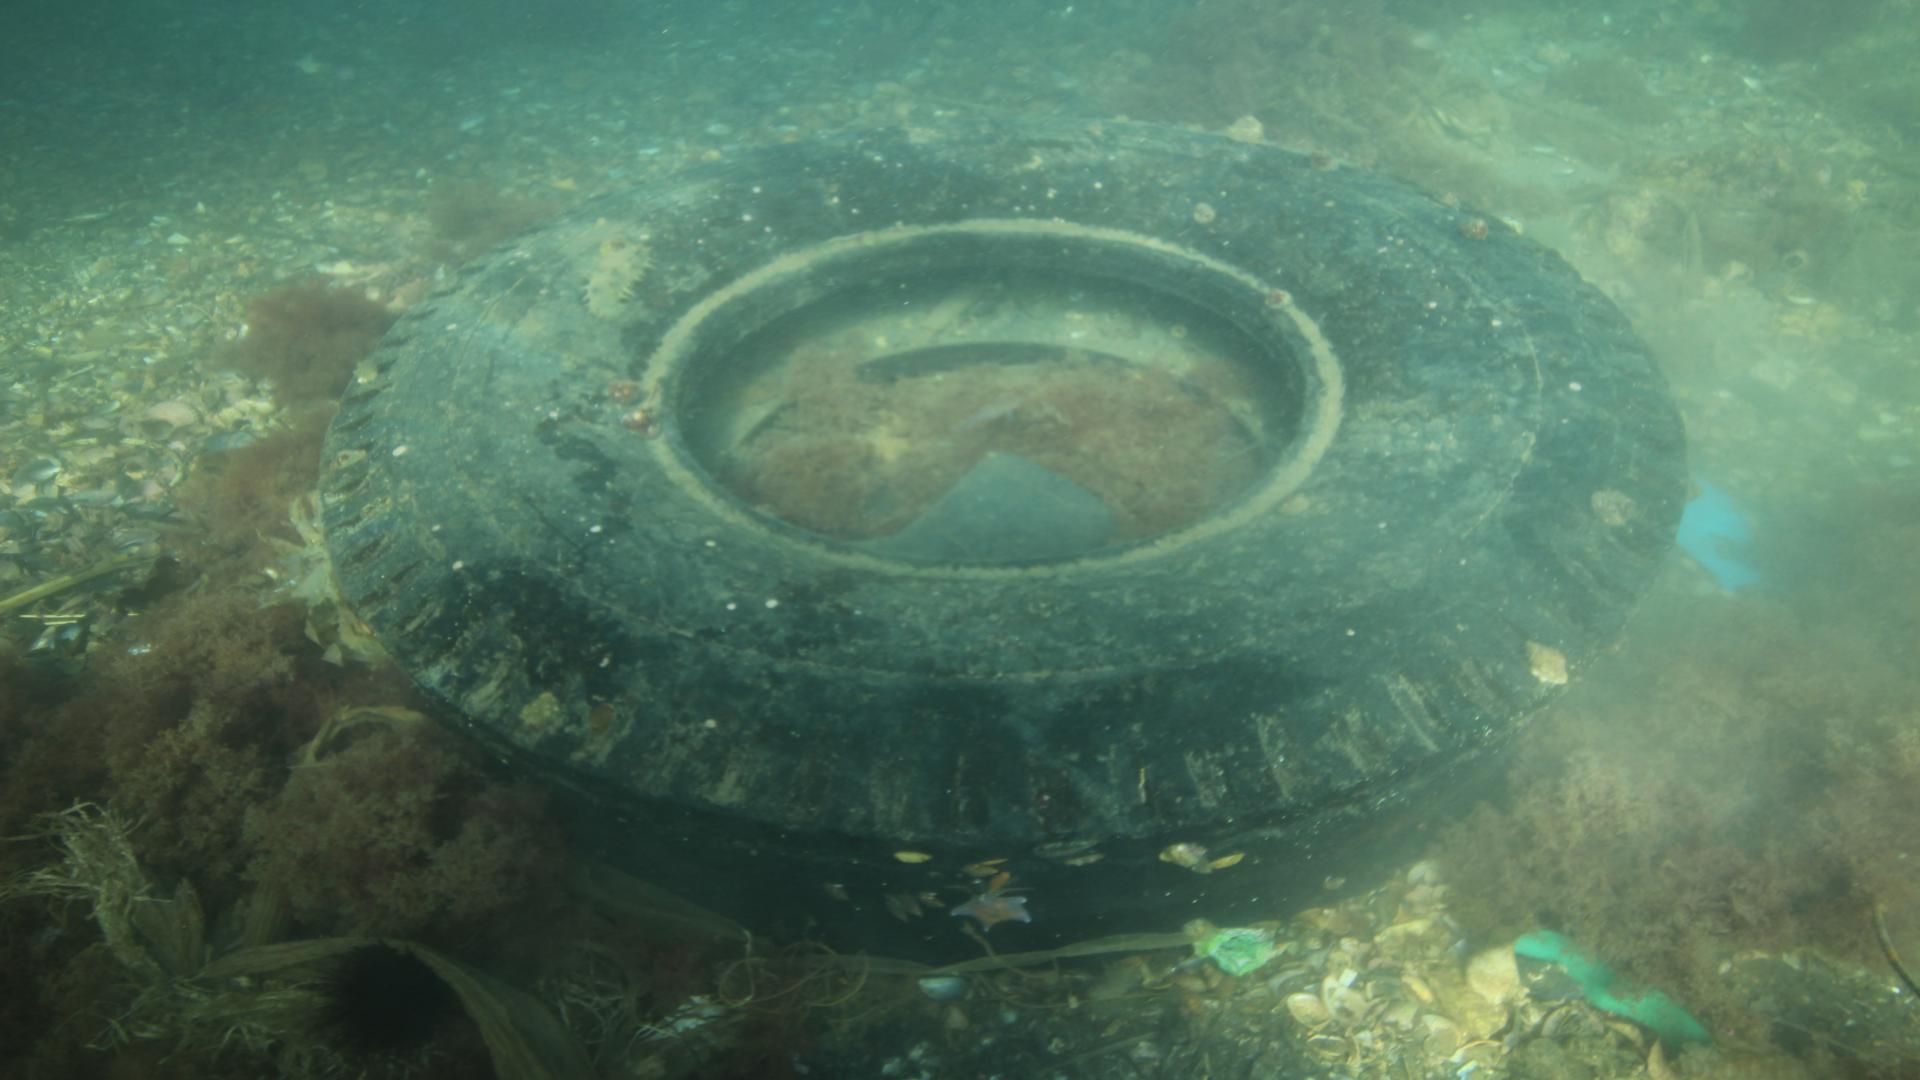tire: (315, 104, 1692, 978)
